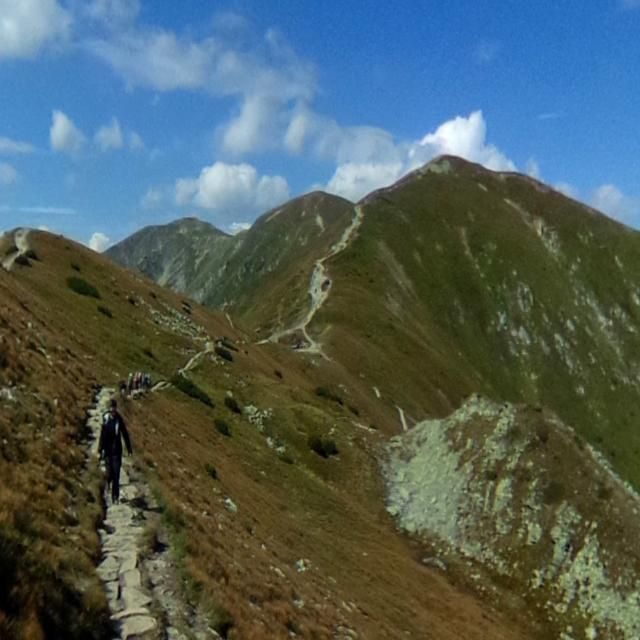Kopa Kondracka: (345, 67, 544, 247)
Krzesanica: (141, 180, 235, 252)
Malolaczniak: (263, 142, 370, 238)
